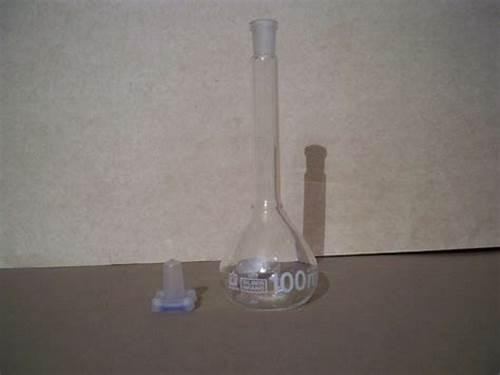Volumetric flask: (215, 20, 329, 315)
